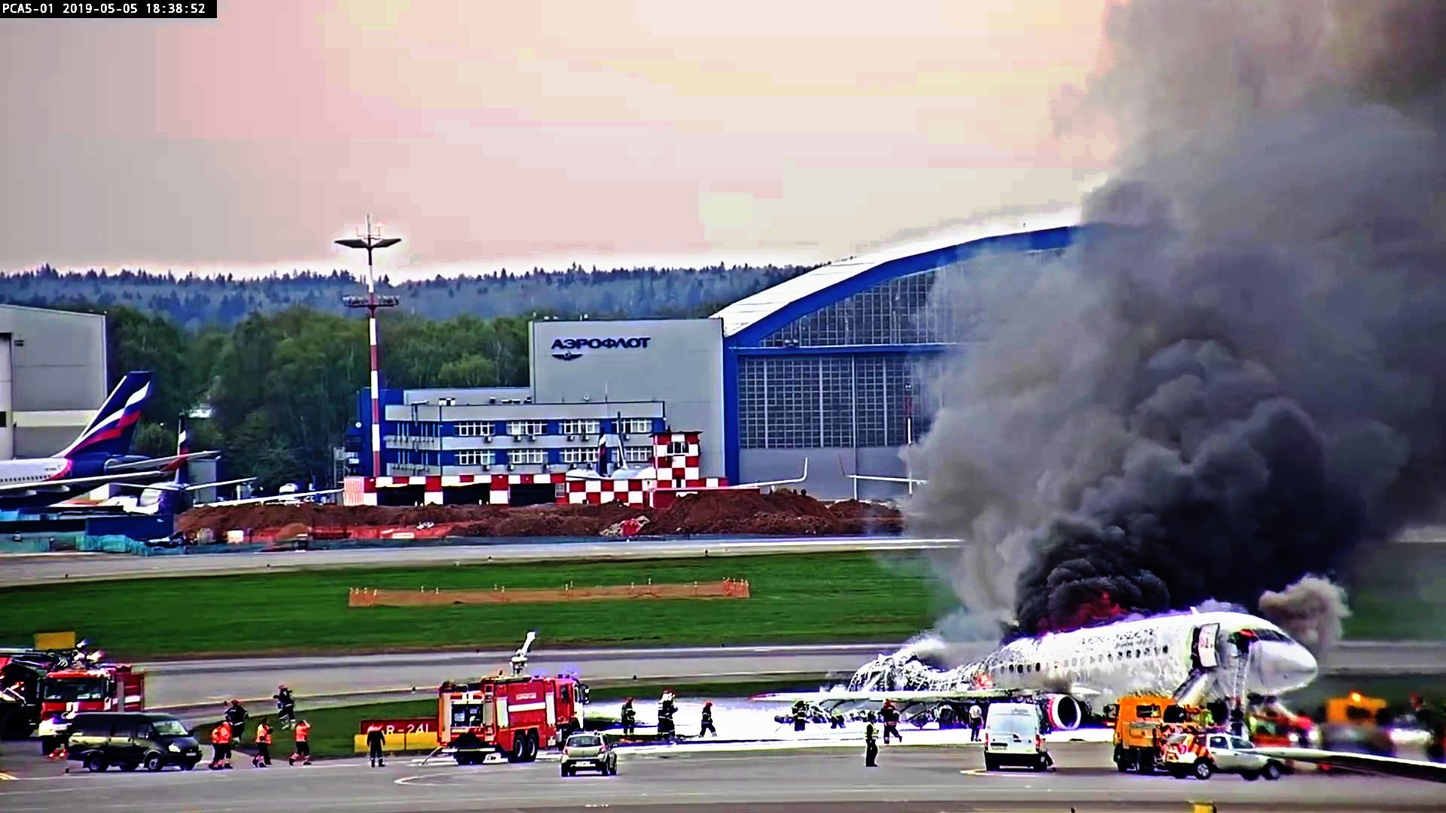smoke: (953, 273, 1446, 610), (1027, 414, 1418, 625)
